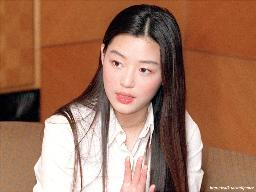face: (104, 38, 164, 112)
